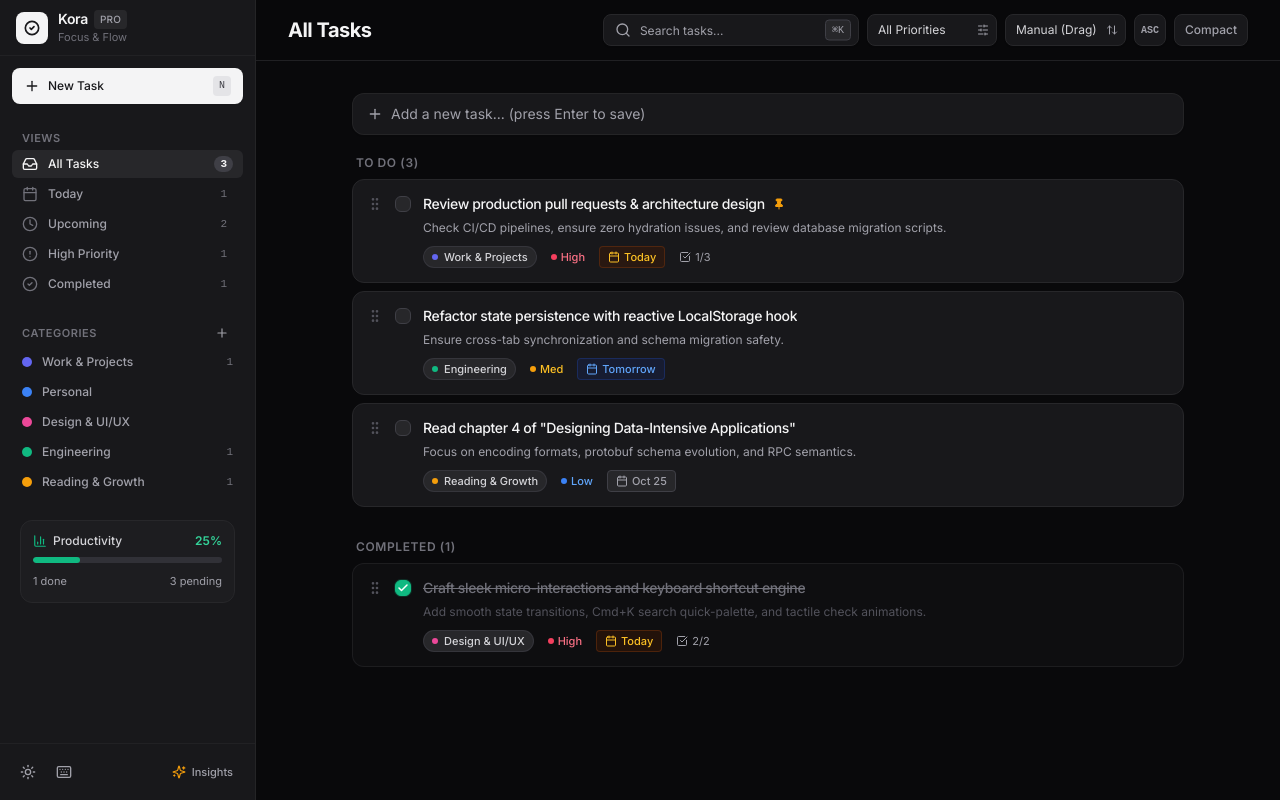
Test: Kora Modern Todo Application › filters tasks based on search query
Type "Non-existent task search term 12345" into the field with placeholder "Search tasks..." at (731, 30), box top-left (603, 14), bottom-right (859, 46)
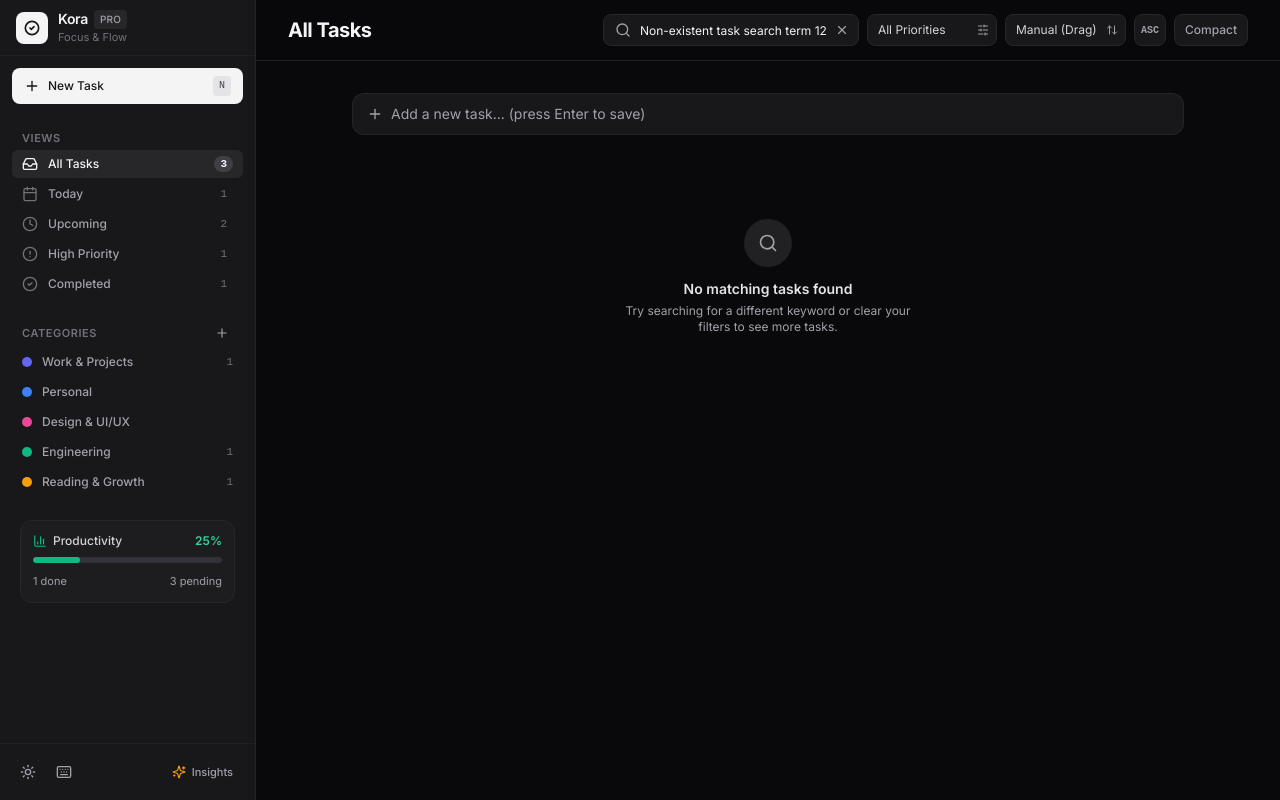
expect the heading "No matching tasks found" is shown: met, box top-left (684, 279), bottom-right (852, 299)
Clear the field with placeholder "Search tasks..." at (731, 30), box top-left (603, 14), bottom-right (859, 46)
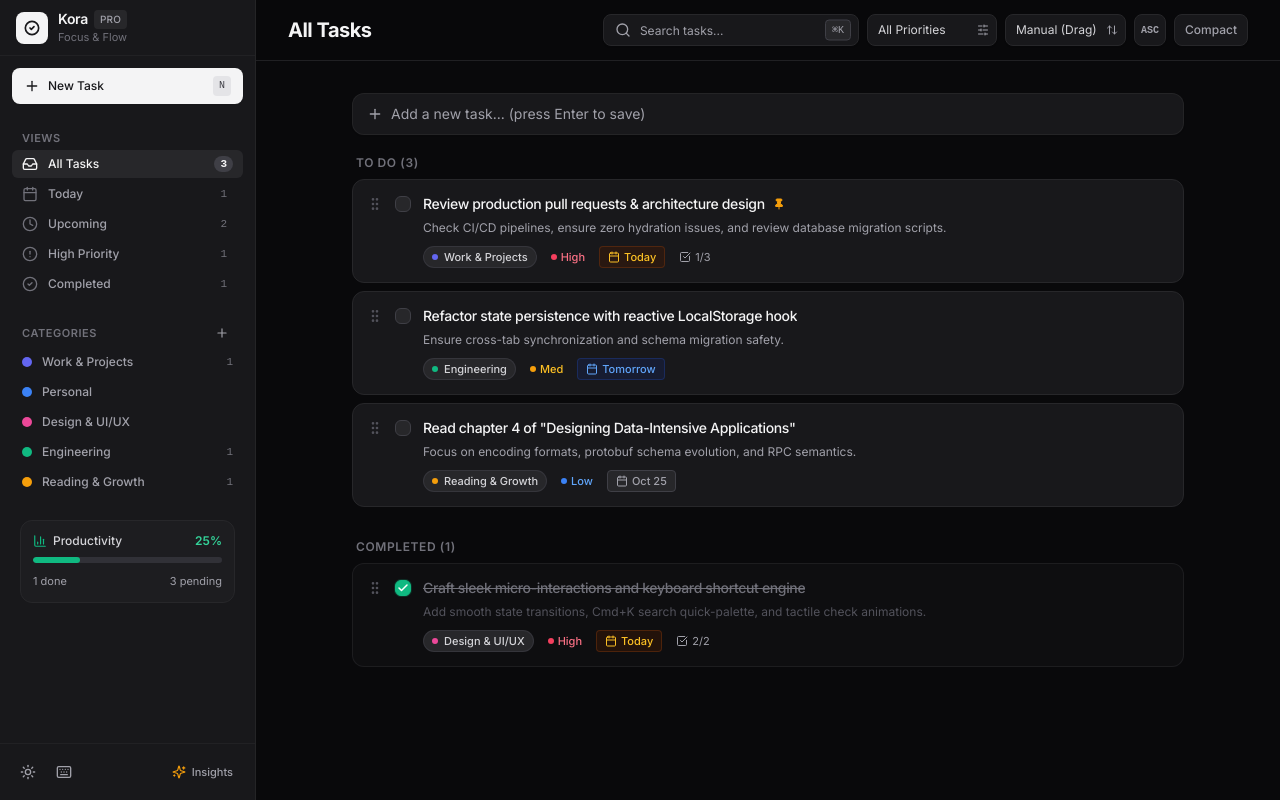
expect the heading "No matching tasks found" is gone: met
